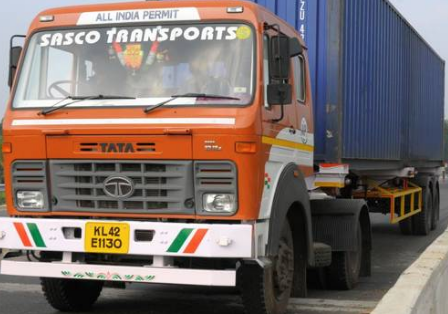truck: (1, 1, 448, 314)
